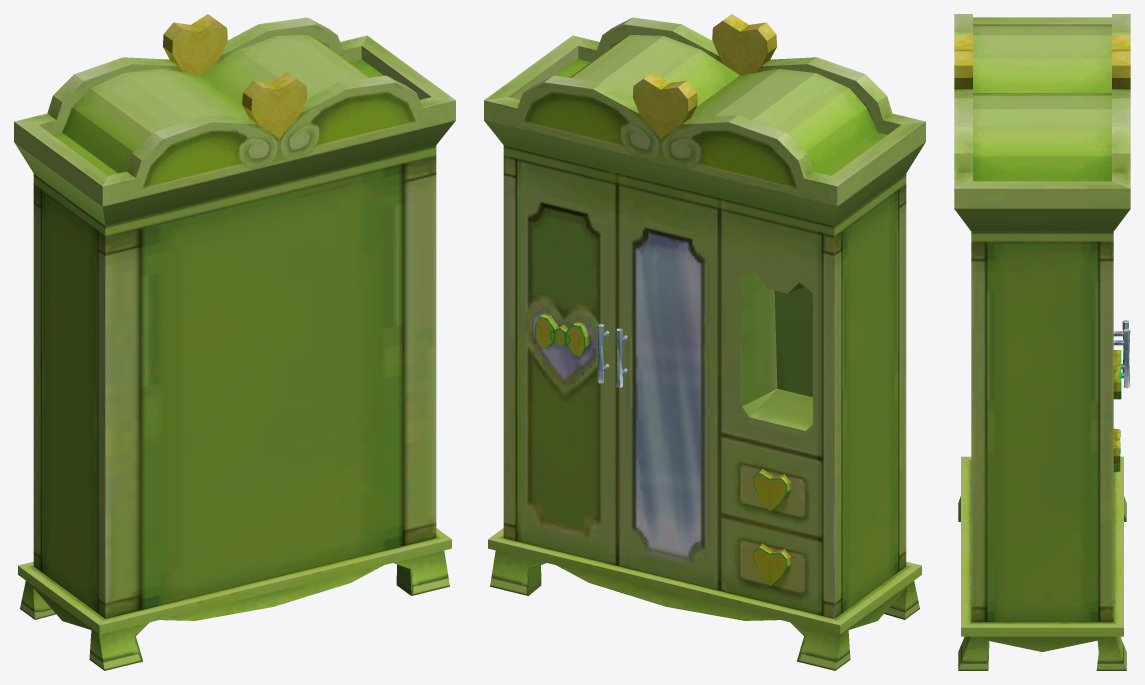
Rendered from furni_0200023_02.FBX.
3 renders of one model, left to right at view 1: azimuth 30°, elevation 25°; view 2: azimuth 150°, elevation 25°; view 3: azimuth 270°, elevation 25°, orthographic.
Parts seen in each view (by area): view 1: furni_0200023_02; view 2: furni_0200023_02; view 3: furni_0200023_02.
Part boxes in pixels (x1,y1,x2,y2): furni_0200023_02: (14,14,455,670); furni_0200023_02: (484,14,925,670); furni_0200023_02: (954,14,1130,670).
Bounding box in the file's own units: 171 × 253 × 74.27.
